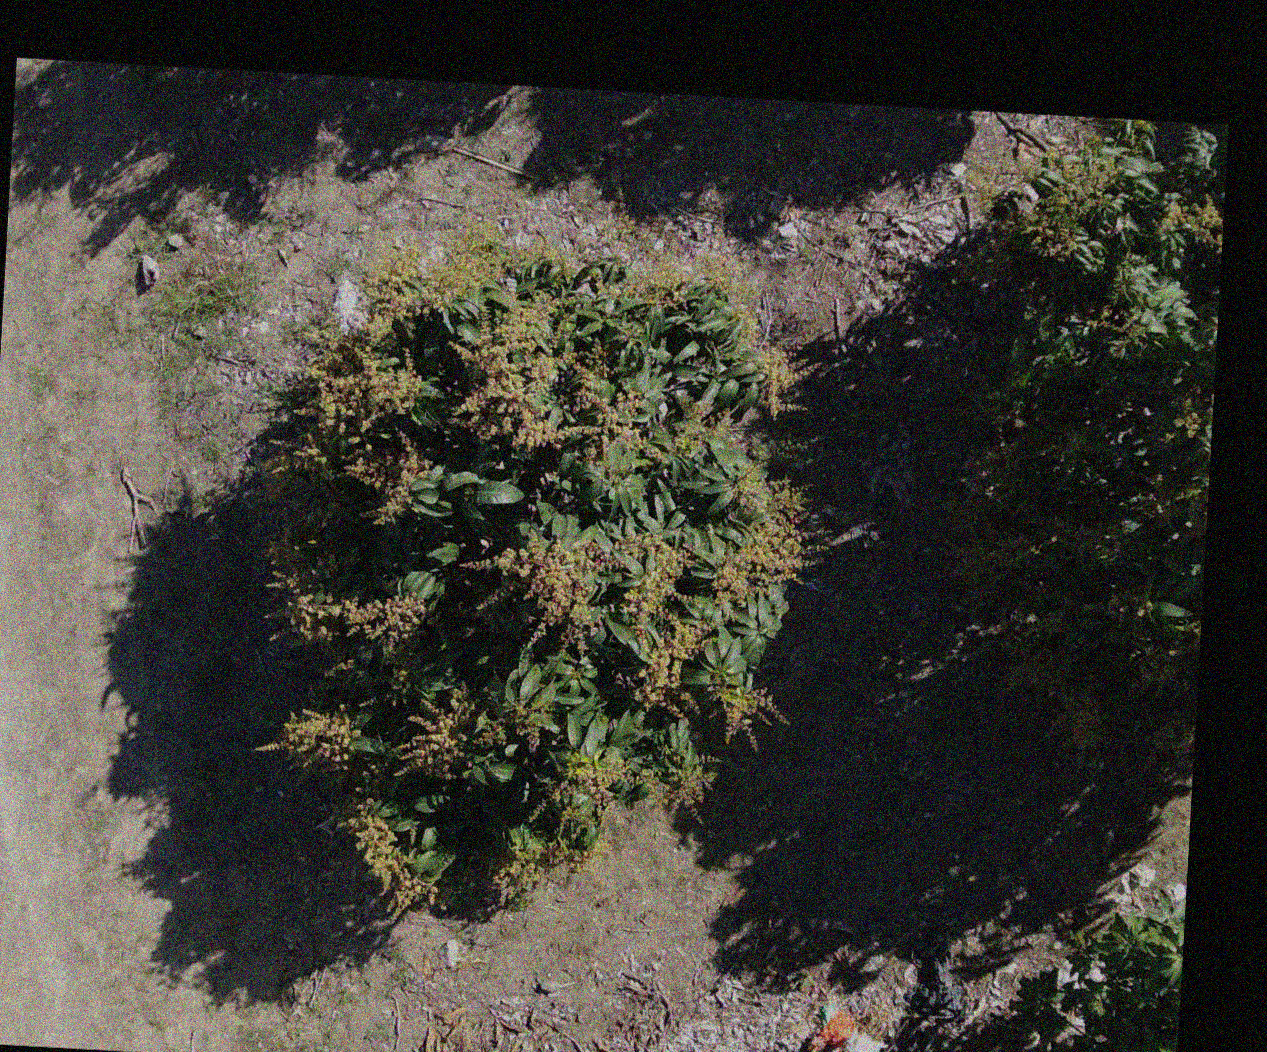flowers: (453, 289, 643, 457), (535, 714, 709, 834), (976, 618, 1108, 748), (614, 533, 710, 711), (460, 535, 610, 646), (362, 235, 508, 344), (950, 438, 1046, 590), (265, 420, 348, 592), (713, 463, 807, 611), (1001, 140, 1114, 261), (336, 801, 442, 913), (303, 343, 421, 432), (343, 431, 429, 525), (283, 590, 427, 645), (1104, 594, 1182, 690), (494, 832, 606, 897), (741, 322, 817, 419), (398, 686, 471, 778), (706, 672, 788, 749), (256, 707, 355, 767), (963, 155, 1035, 215), (665, 398, 732, 456), (1161, 193, 1223, 252), (957, 388, 1027, 429), (502, 700, 549, 751), (358, 697, 375, 707)
